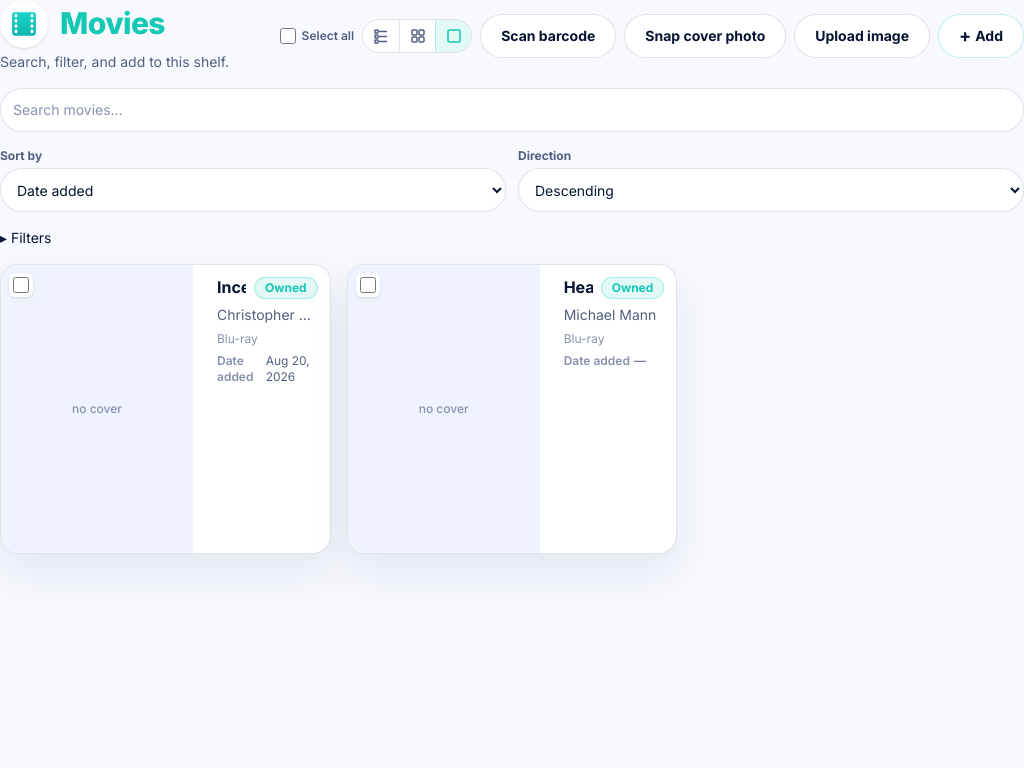
Test case: CollectionList — bulk select + update › Confirm is disabled until a field is set, and enables once one is
This screenshot has width=1024, height=768.
Expected: the heading "Inception" is shown, 217,277 -> 246,297
What coordinates should you click on to do the following:
click the checkbox named "Select item" in the row of "Inception"
I would click on:
 (21, 285)
Its box is 13,277 -> 29,293.
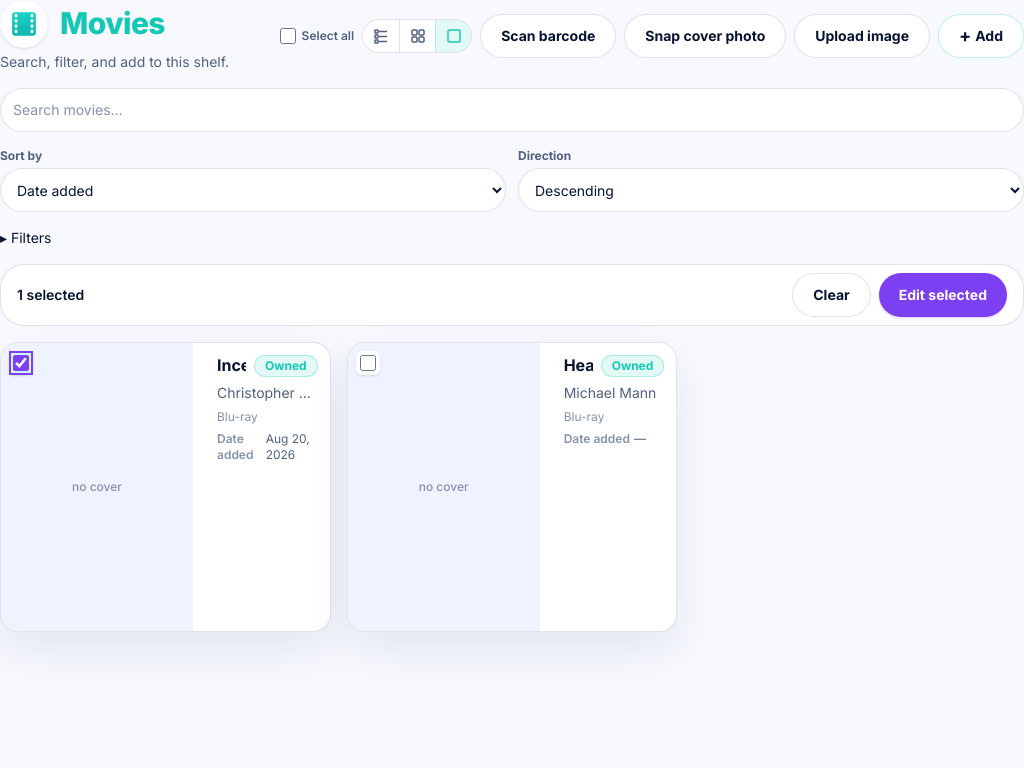
What coordinates should you click on to do the following:
click the button "Edit selected"
I would click on:
 (943, 295)
Its box is 879,273 -> 1007,317.
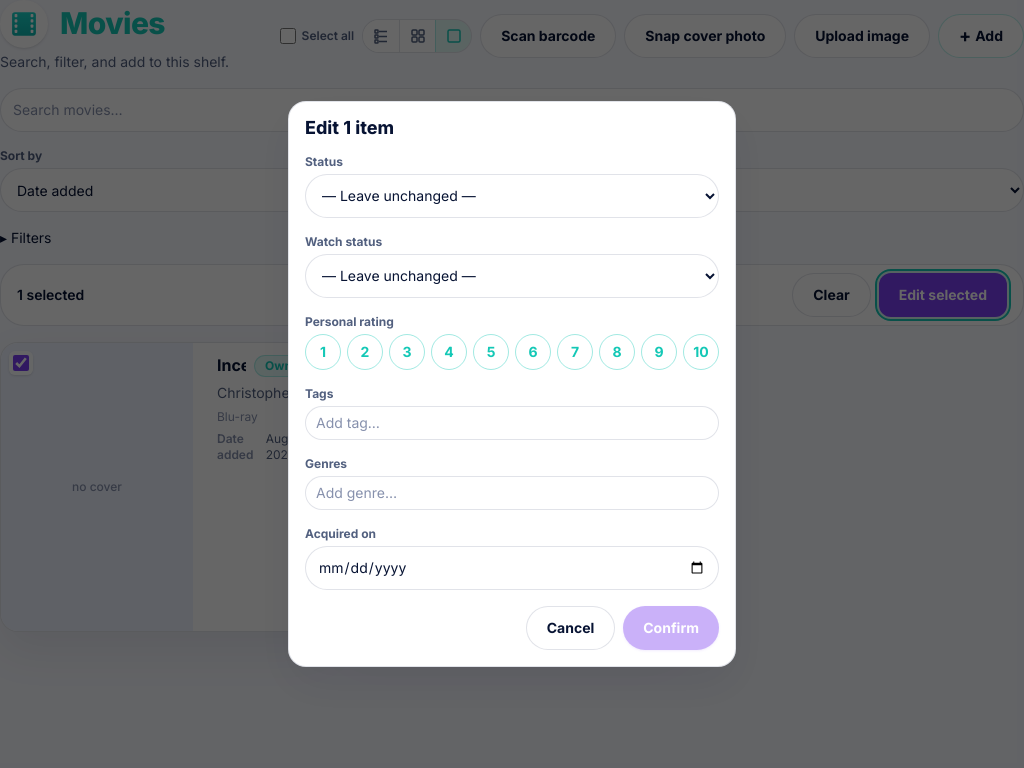
Expected: the button "Confirm" is disabled
What coordinates should you click on to do the following:
click the button "Confirm"
I would click on:
 (671, 628)
Its box is 623,606 -> 719,650.
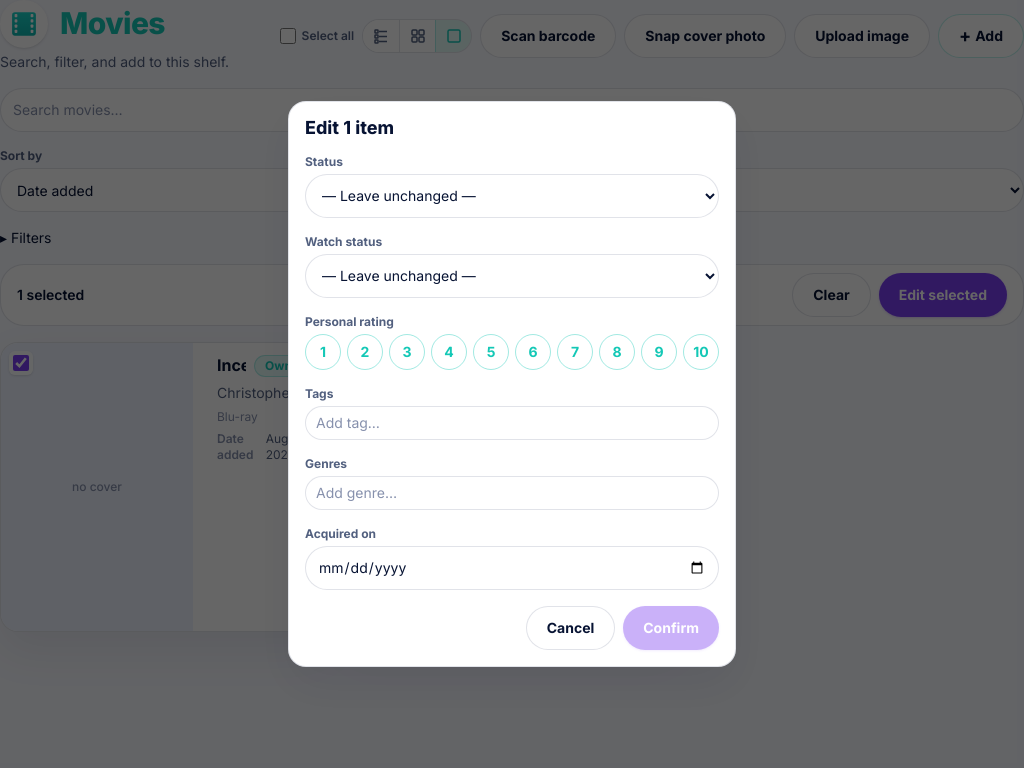
What coordinates should you click on to do the following:
click the radio button named "7 of 10"
I would click on:
 (575, 352)
Its box is 557,334 -> 593,370.
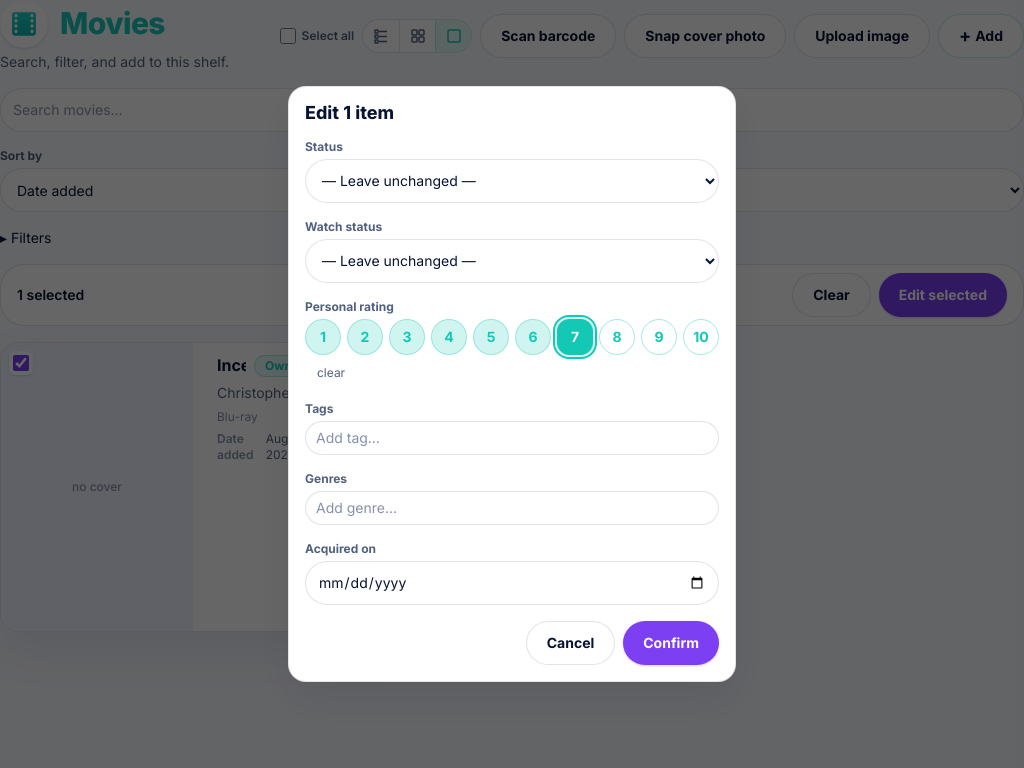
Expected: the button "Confirm" is enabled, 623,621 -> 719,665
